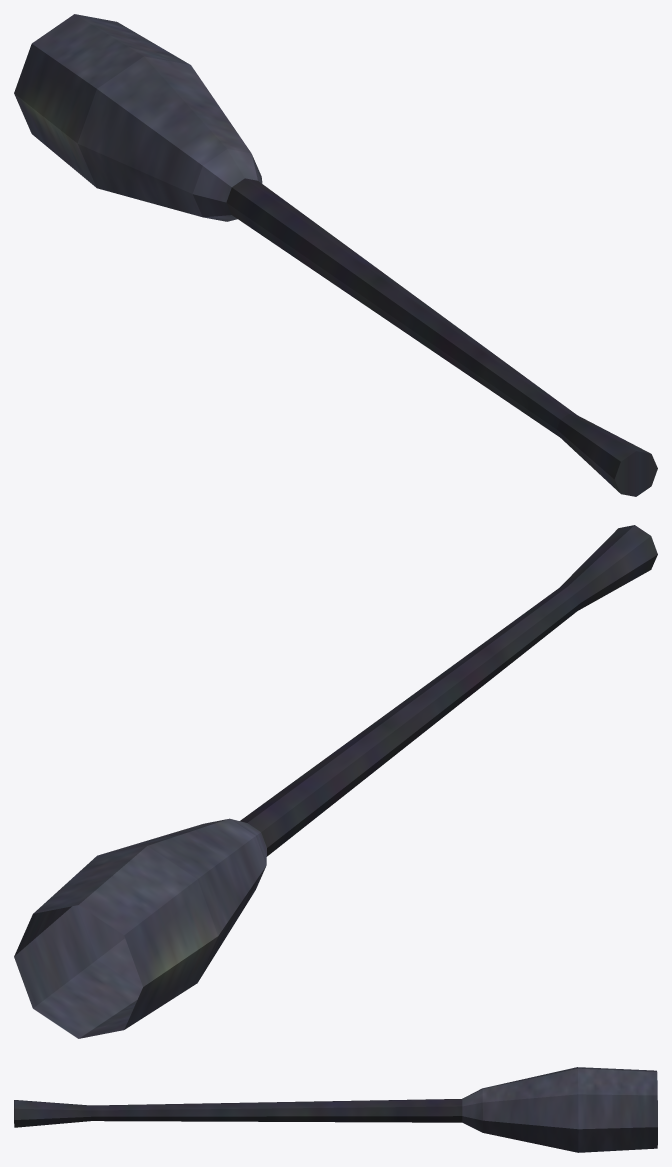
File: bradley_turret.obj
3 views of the same model, one above another, from view 1: azimuth 30°, elevation 25°; view 2: azimuth 150°, elevation 25°; view 3: azimuth 270°, elevation 25° (orthographic). The views are drawn at different scales.
Bounding box in the file's own units: 0.0404 × 0.0404 × 0.2849.
